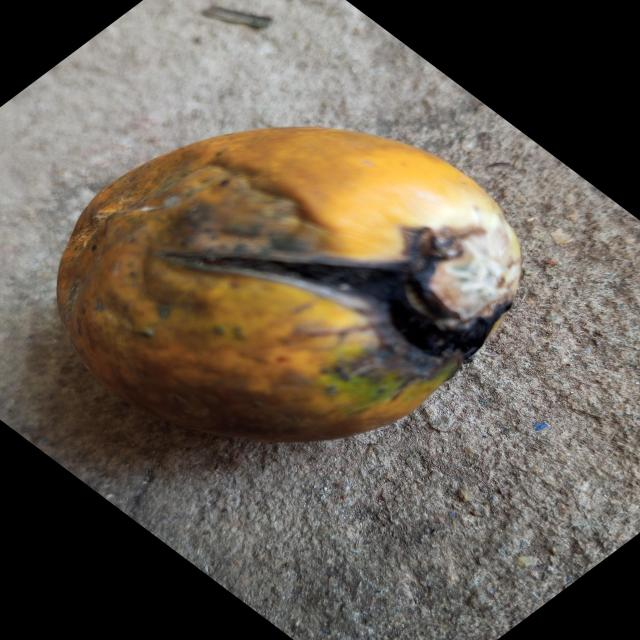damaged: (55, 126, 522, 445)
